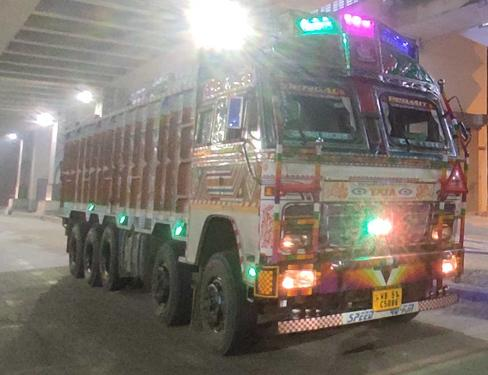Truck: (60, 6, 471, 357)
